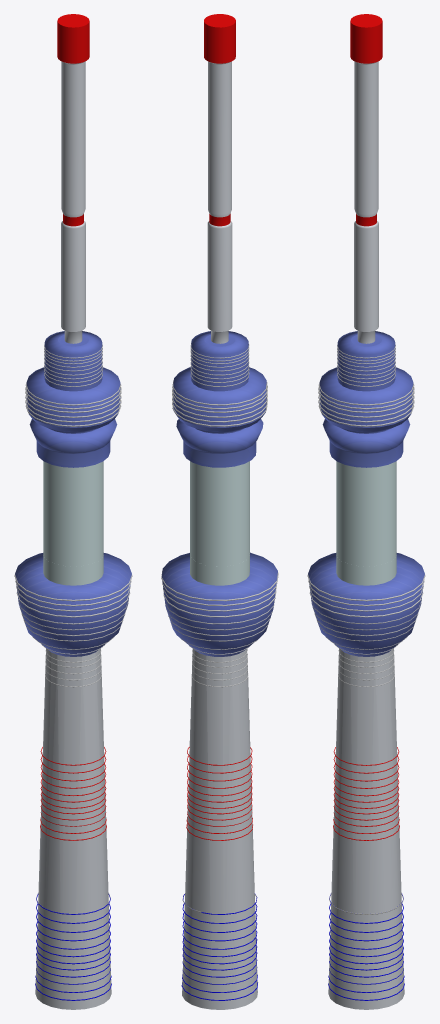
File: skytury.fbx
3 renders of one model, left to right at view 1: azimuth 90°, elevation 25°; view 2: azimuth 150°, elevation 25°; view 3: azimuth 270°, elevation 25°, orthographic.
Visible parts, largest first — view 1: polySurface2, polySurface39, polySurface10, pSphere4; view 2: polySurface2, polySurface39, polySurface10, pSphere4; view 3: polySurface2, polySurface39, polySurface10, pSphere4.
Boxes of the visible parts, box(x1,y1,x2,y2) form: polySurface2: box(15, 14, 131, 1009); polySurface39: box(14, 344, 132, 687); polySurface10: box(35, 894, 111, 1000); pSphere4: box(40, 747, 106, 840); polySurface2: box(161, 14, 277, 1009); polySurface39: box(161, 343, 278, 687); polySurface10: box(181, 894, 257, 1000); pSphere4: box(186, 747, 252, 840); polySurface2: box(308, 14, 424, 1009); polySurface39: box(307, 344, 425, 686); polySurface10: box(328, 894, 404, 1000); pSphere4: box(333, 747, 399, 840).
Size of the model in its own units: 40.89 by 372 by 40.89.
